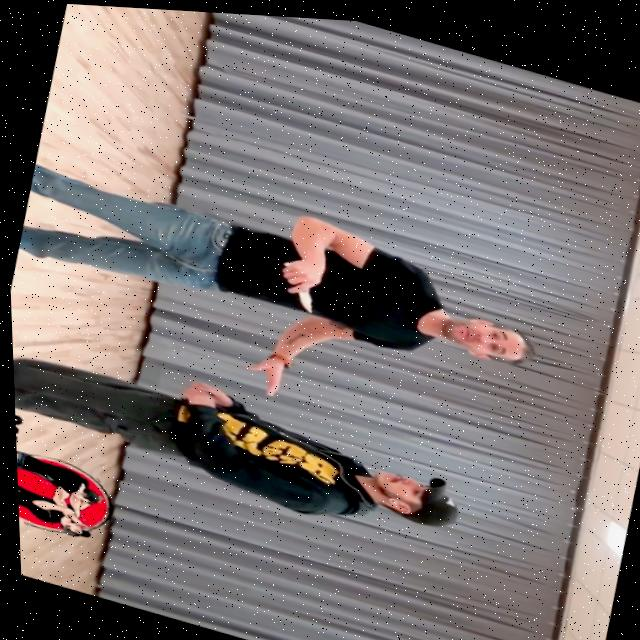knife: (290, 285, 314, 310)
